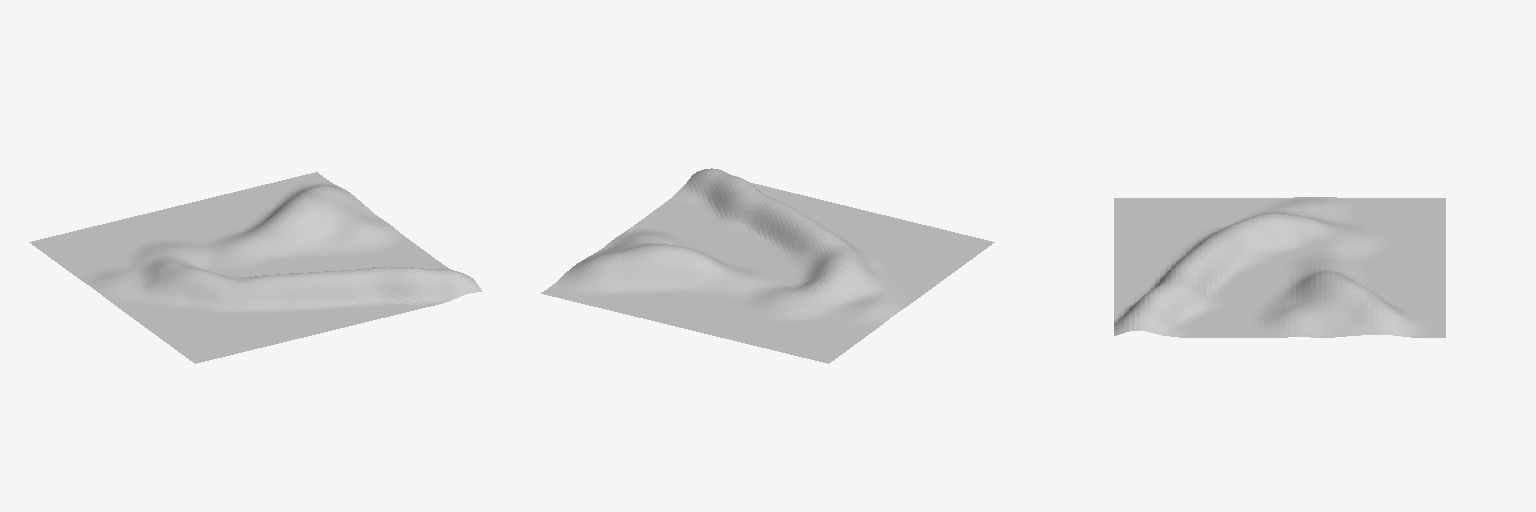
3 renders of one model, left to right at view 1: azimuth 30°, elevation 25°; view 2: azimuth 150°, elevation 25°; view 3: azimuth 270°, elevation 25°, orthographic.
Visible parts, largest first — view 1: test_plane_2_test_plane_2.001; view 2: test_plane_2_test_plane_2.001; view 3: test_plane_2_test_plane_2.001.
Part boxes in pixels (bbox=[...]): test_plane_2_test_plane_2.001: bbox=[29, 172, 482, 363]; test_plane_2_test_plane_2.001: bbox=[541, 168, 994, 363]; test_plane_2_test_plane_2.001: bbox=[1114, 197, 1445, 337].
Size of the model in its own units: 30.32 by 2.41 by 30.32.